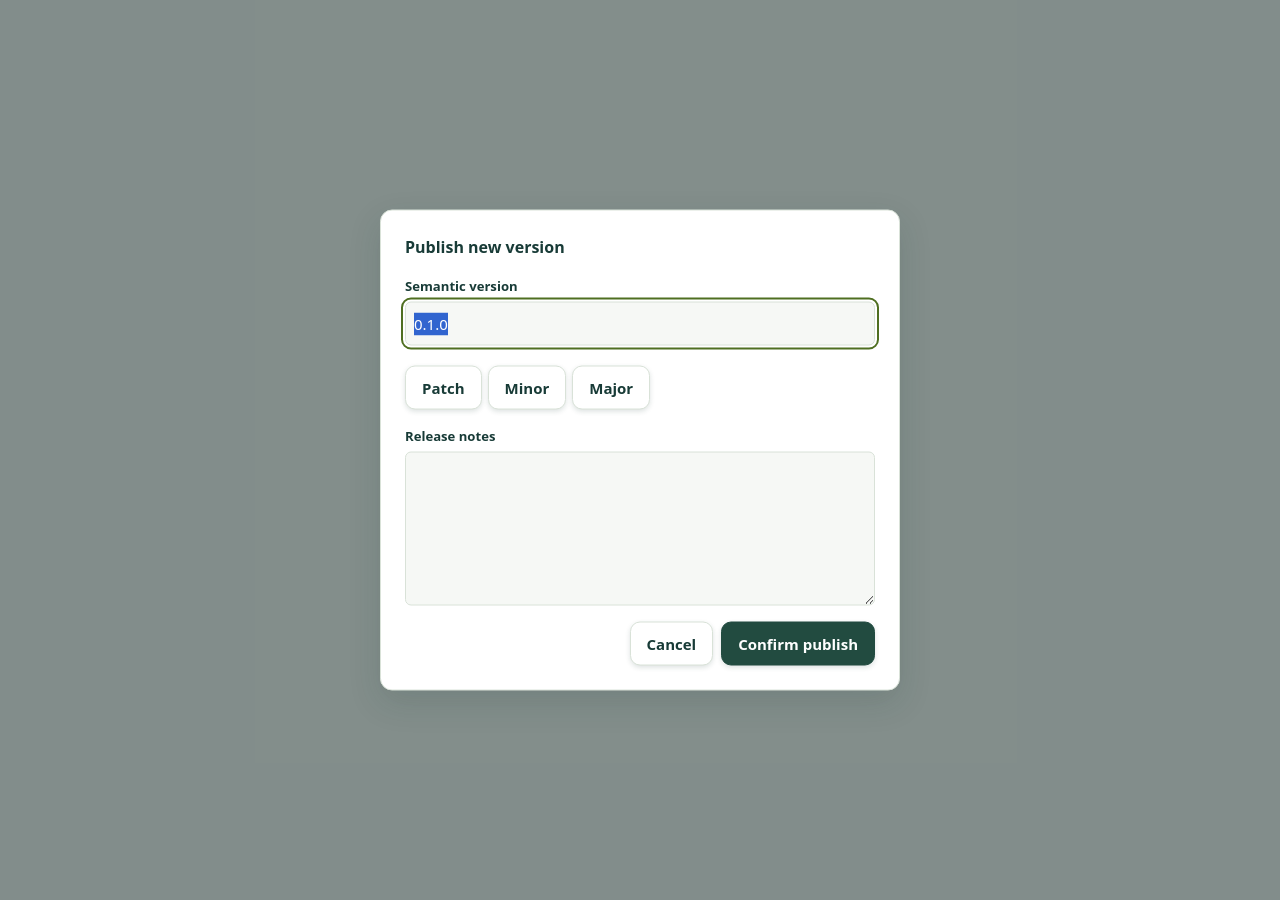
Test: PublishDialog › keeps the confirm button disabled until every breaking finding is acknowledged
The image size is (1280, 900).
Type "destructive change" into the text box with test id "publish-dialog-release-notes" at (640, 529), box [405,452,875,606]
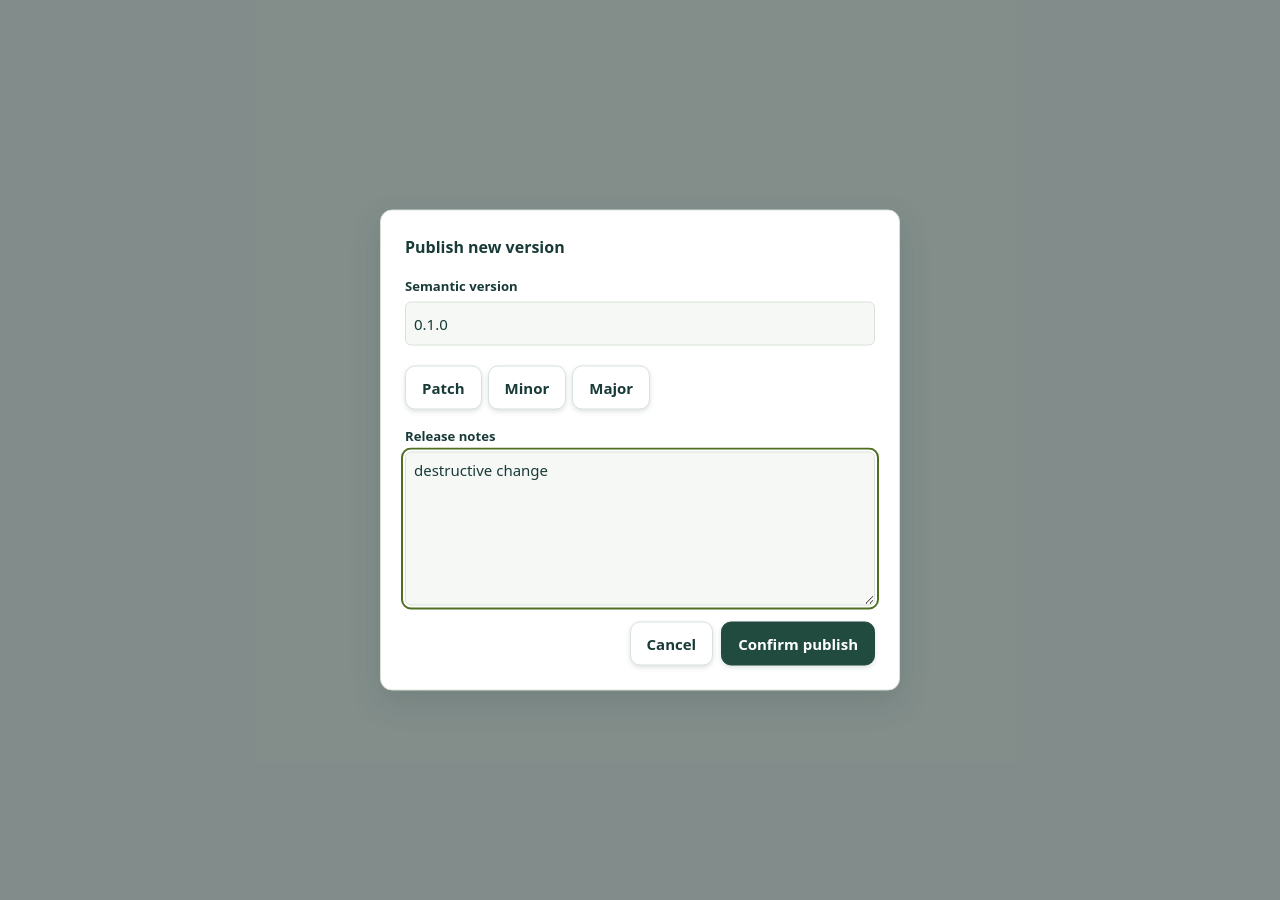
Click the button with test id "publish-dialog-submit" at (798, 644), box [721,622,875,666]
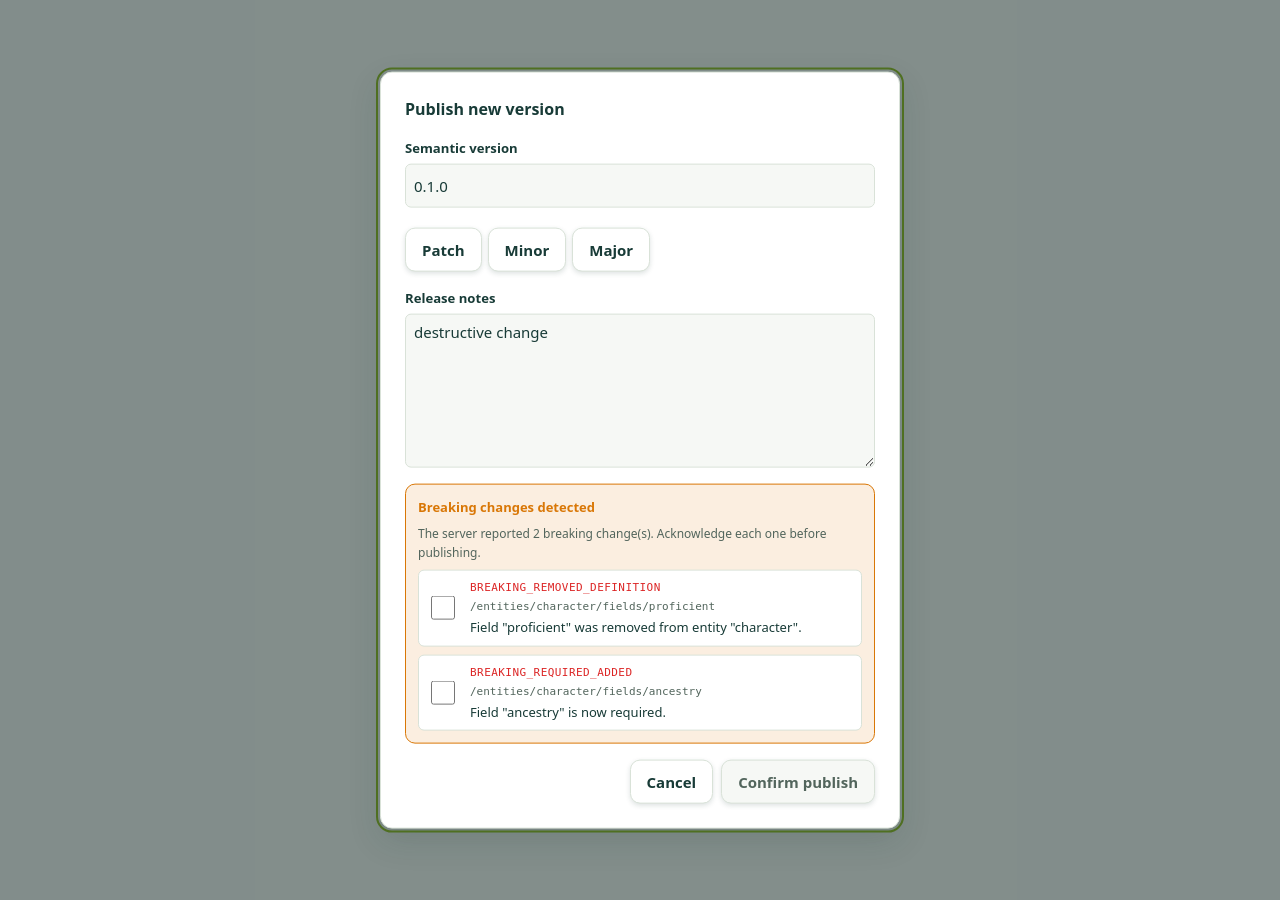
Check: the button with test id "publish-dialog-submit" is disabled, box [721,759,875,803]
Click the checkbox with test id "publish-dialog-finding-checkbox-breaking_removed_definition-/entities/character/fields/proficient" at (443, 608), box [431,596,455,620]
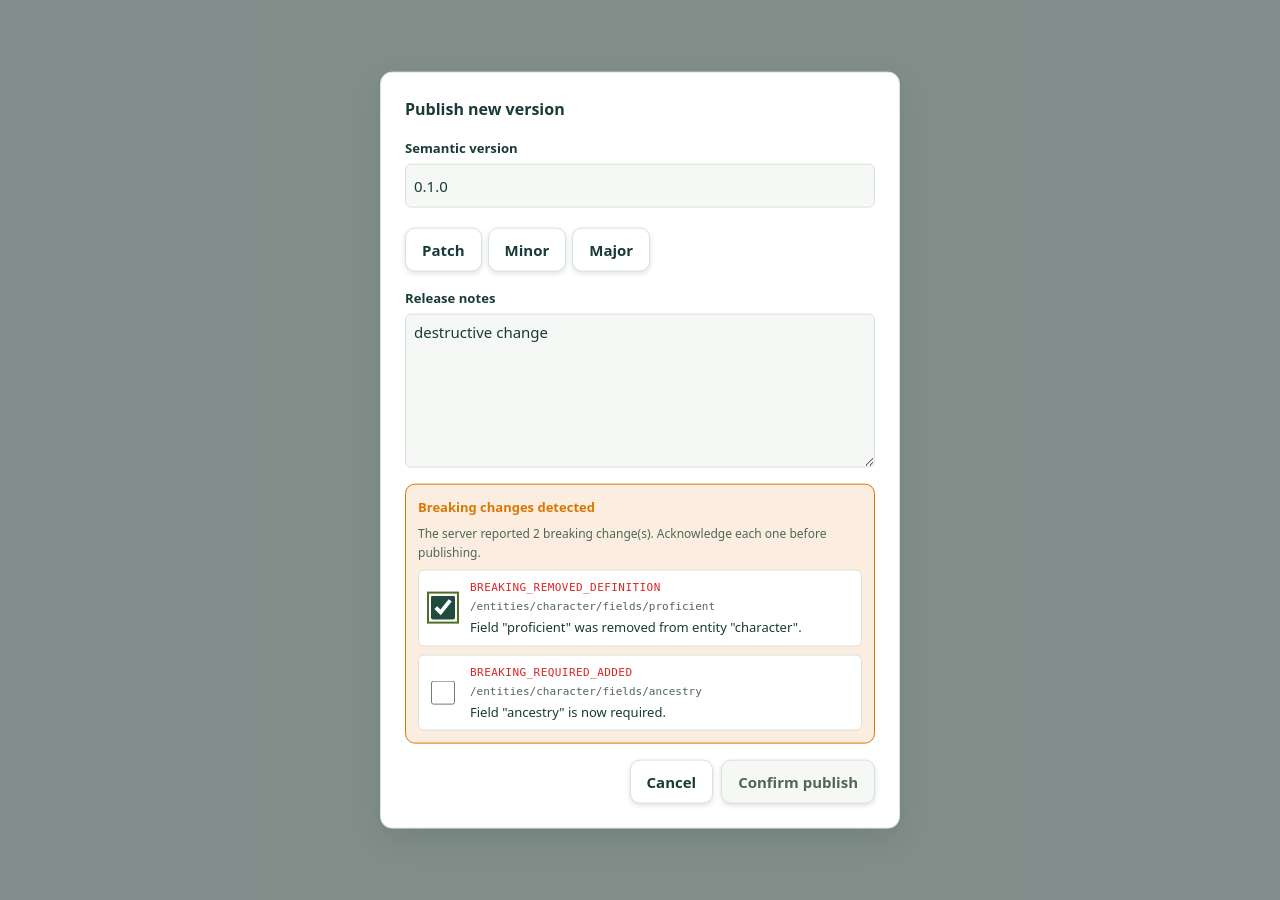
Check: the button with test id "publish-dialog-submit" is disabled, box [721,759,875,803]
Click the checkbox with test id "publish-dialog-finding-checkbox-breaking_required_added-/entities/character/fields/ancestry" at (443, 692), box [431,680,455,704]
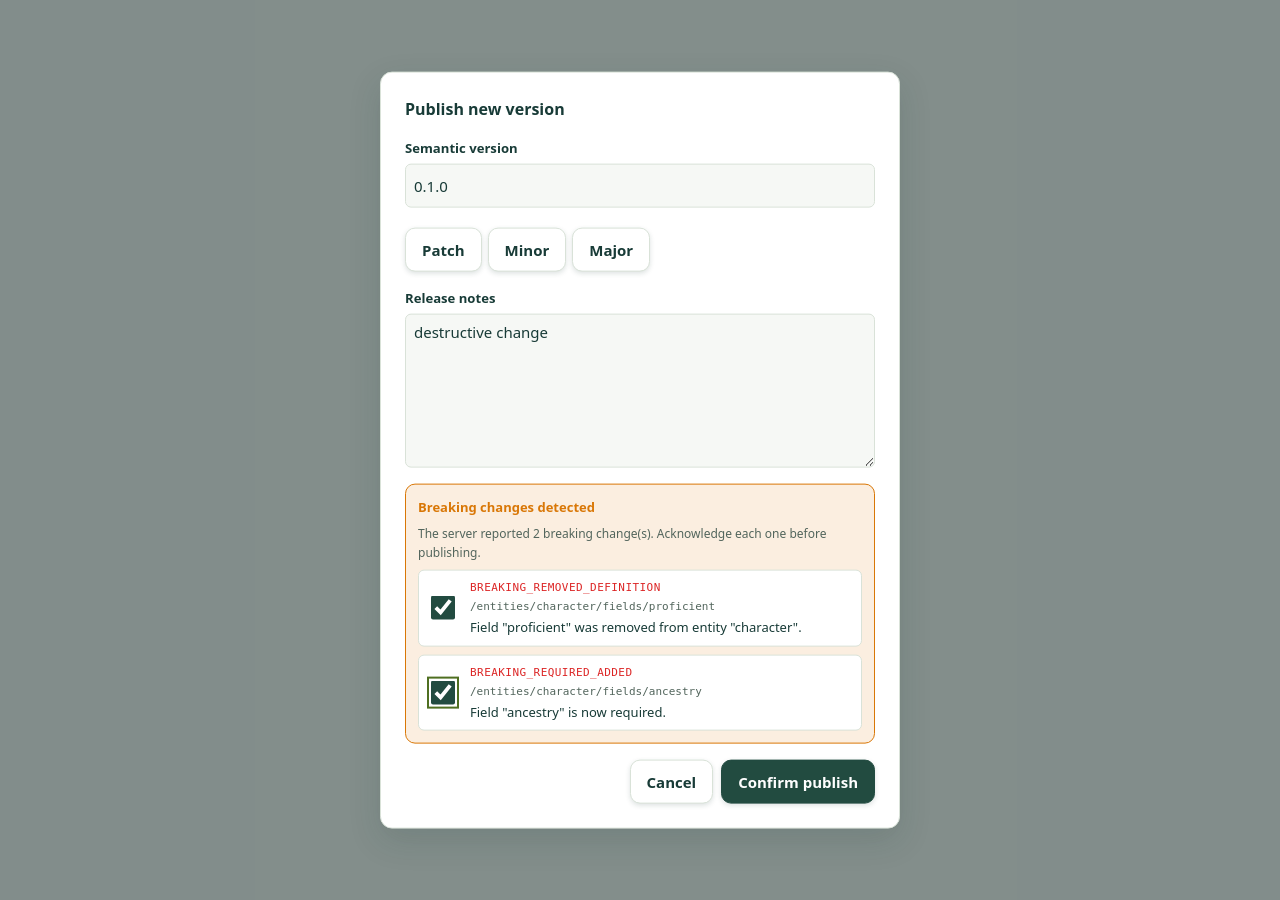
Check: the button with test id "publish-dialog-submit" is enabled, box [721,759,875,803]
